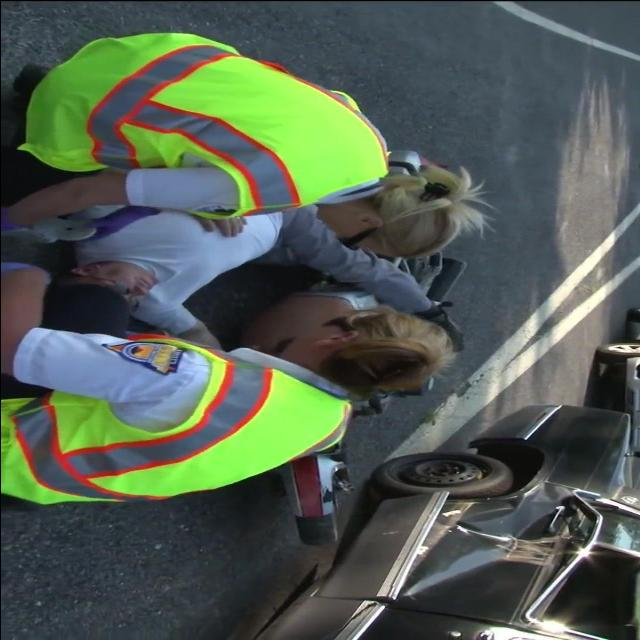jacket: (3, 30, 399, 232), (0, 320, 348, 514)
